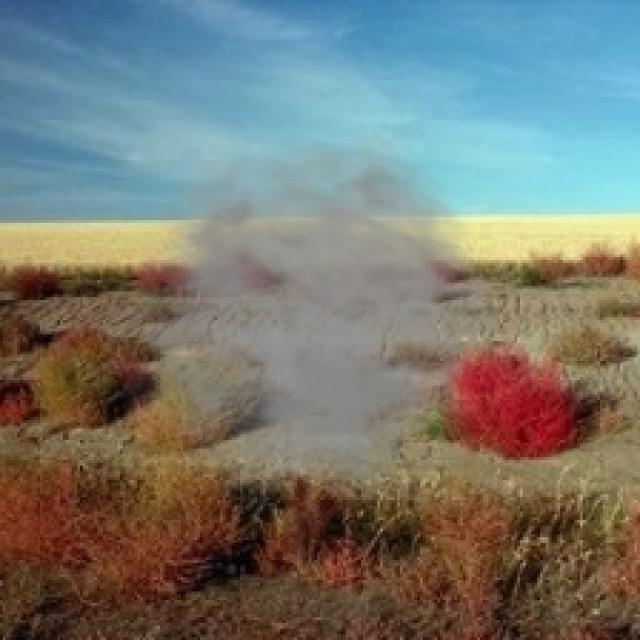smoke: (97, 129, 500, 517)
